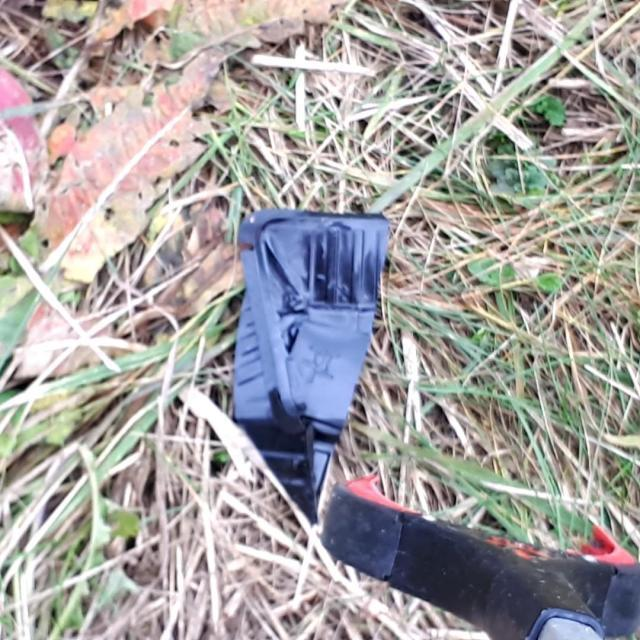Plastic: (226, 204, 393, 534)
